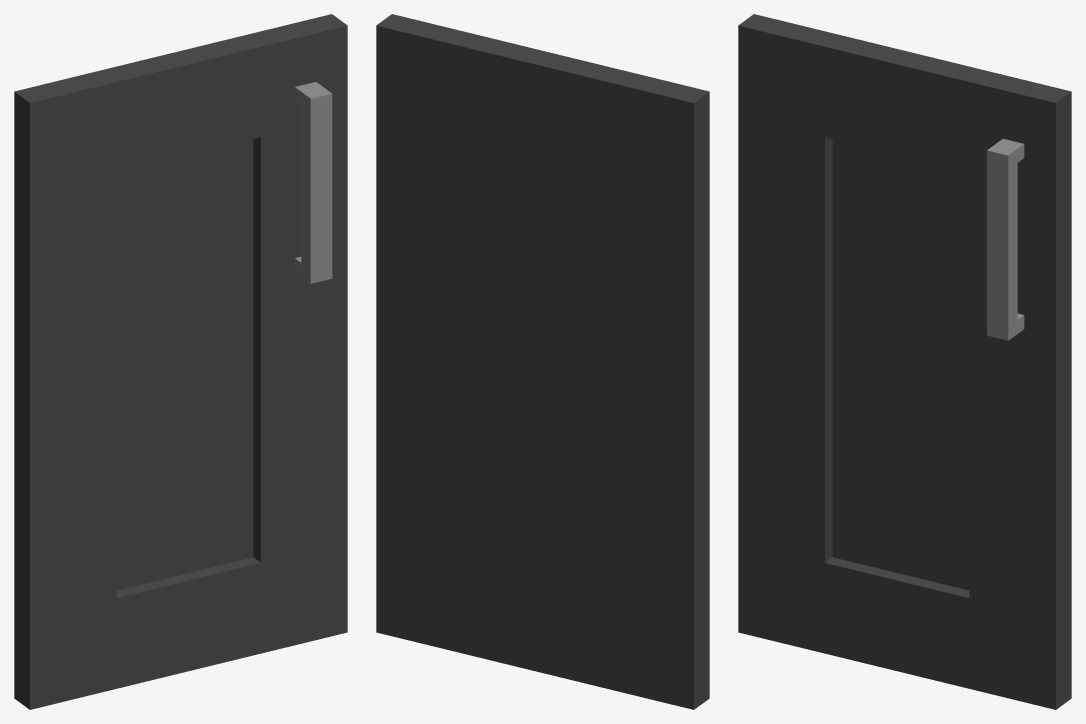
Rendered from Door2_C3_10.fbx.
The picture shows the model from 3 angles, left to right: view 1: azimuth 30°, elevation 25°; view 2: azimuth 150°, elevation 25°; view 3: azimuth 330°, elevation 25°; orthographic projection.
Parts seen in each view (by area): view 1: Door2_C3_10; view 2: Door2_C3_10; view 3: Door2_C3_10.
Part boxes in pixels (x1=…): Door2_C3_10: x1=14, y1=14, x2=347, y2=709; Door2_C3_10: x1=376, y1=14, x2=709, y2=709; Door2_C3_10: x1=738, y1=14, x2=1071, y2=709.
Size of the model in its own units: 29 by 52.92 by 5.03.
